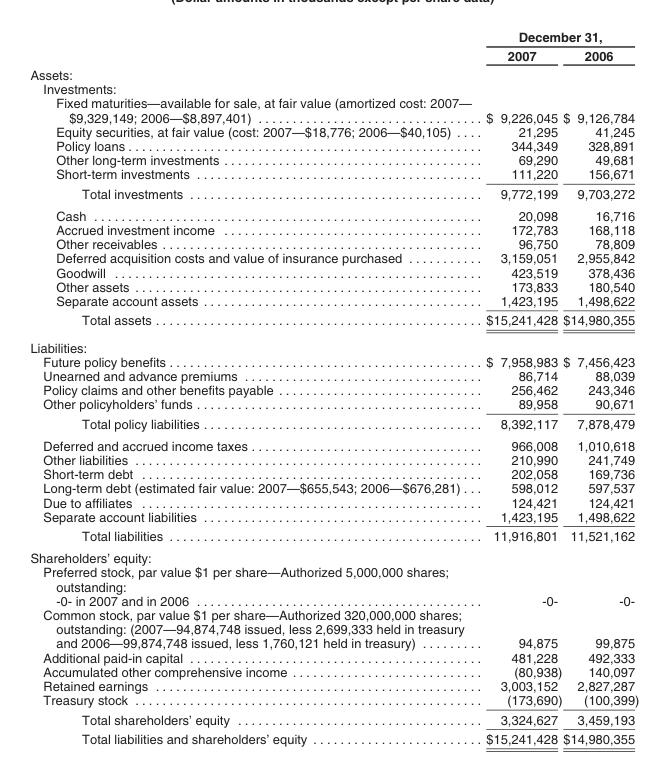table: (29, 29, 638, 745)
table column: (29, 29, 478, 745), (478, 29, 561, 745), (561, 29, 638, 745)
table column header: (29, 29, 638, 64)
table projected row header: (29, 333, 638, 354), (29, 546, 638, 564), (29, 64, 638, 81), (29, 81, 638, 95)
table row: (29, 564, 638, 607), (29, 607, 638, 649), (29, 95, 638, 124), (29, 310, 638, 333), (29, 183, 638, 204), (29, 333, 638, 354), (29, 413, 638, 434), (29, 525, 638, 546), (29, 45, 638, 64), (29, 709, 638, 728), (29, 204, 638, 222), (29, 434, 638, 452), (29, 546, 638, 564), (29, 64, 638, 81), (29, 166, 638, 183), (29, 293, 638, 310), (29, 396, 638, 413), (29, 692, 638, 709), (29, 728, 638, 745), (29, 29, 638, 45), (29, 509, 638, 525), (29, 264, 638, 279), (29, 494, 638, 509), (29, 649, 638, 664), (29, 81, 638, 95), (29, 124, 638, 138), (29, 138, 638, 152), (29, 152, 638, 166), (29, 222, 638, 236), (29, 236, 638, 250), (29, 250, 638, 264), (29, 279, 638, 293), (29, 354, 638, 368), (29, 368, 638, 382), (29, 382, 638, 396), (29, 452, 638, 466), (29, 466, 638, 480), (29, 480, 638, 494), (29, 664, 638, 678), (29, 678, 638, 692)
table spanning cell: (478, 29, 638, 45)
